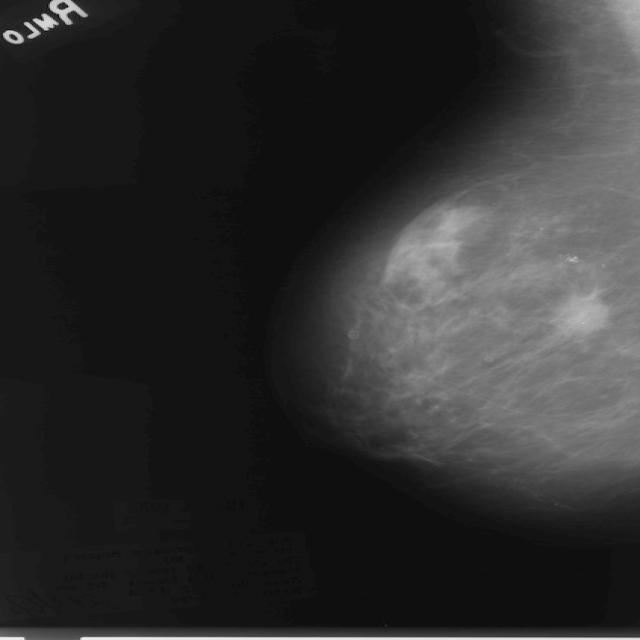tumour: (550, 294, 606, 336)
